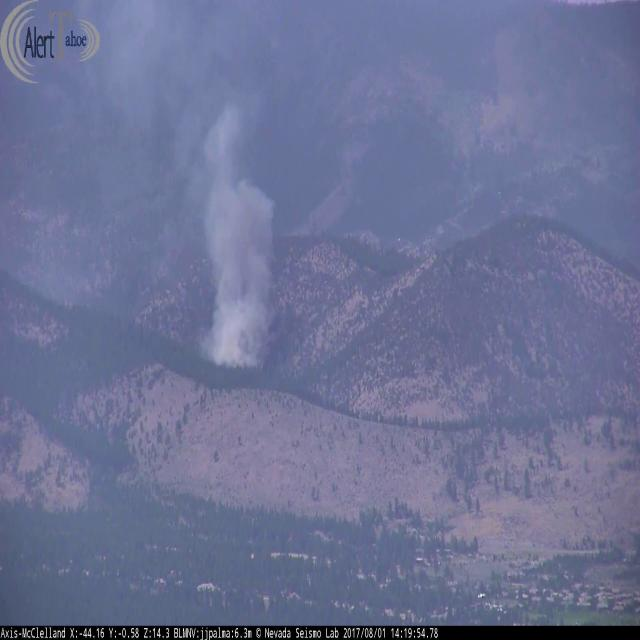smoke: (109, 0, 290, 388)
